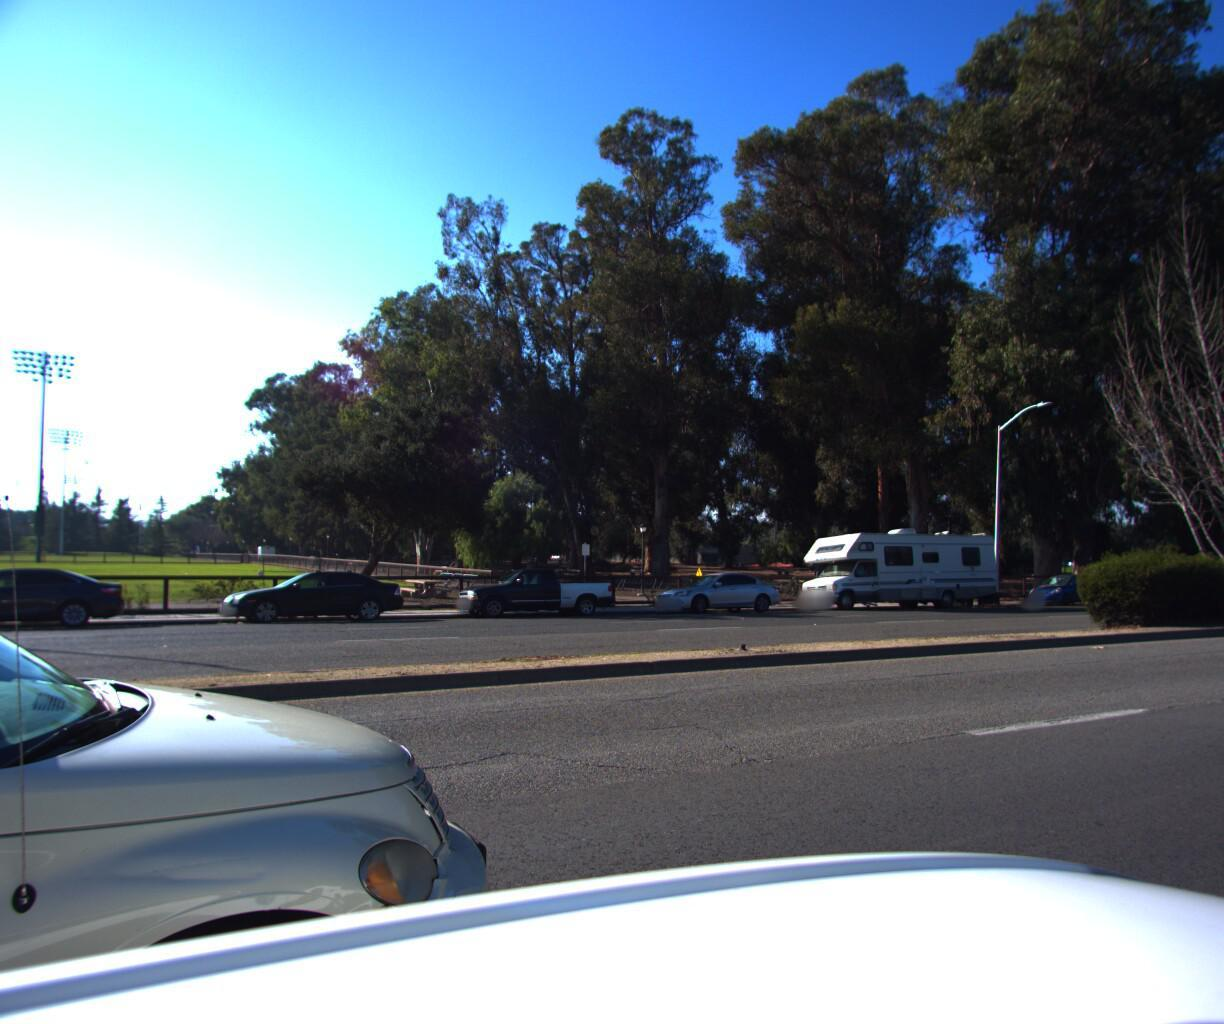car: (203, 570, 409, 633), (443, 567, 621, 626), (0, 568, 128, 643), (640, 571, 782, 619), (1015, 569, 1107, 608)
other_vehicle: (779, 516, 1007, 615)
